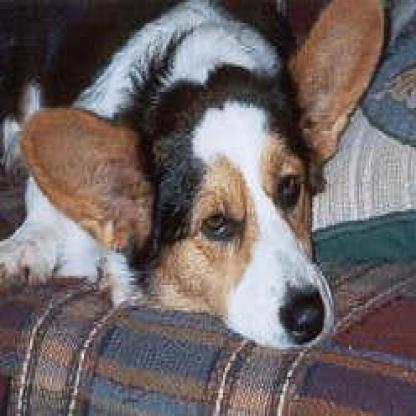Cardigan: (3, 0, 385, 349)
